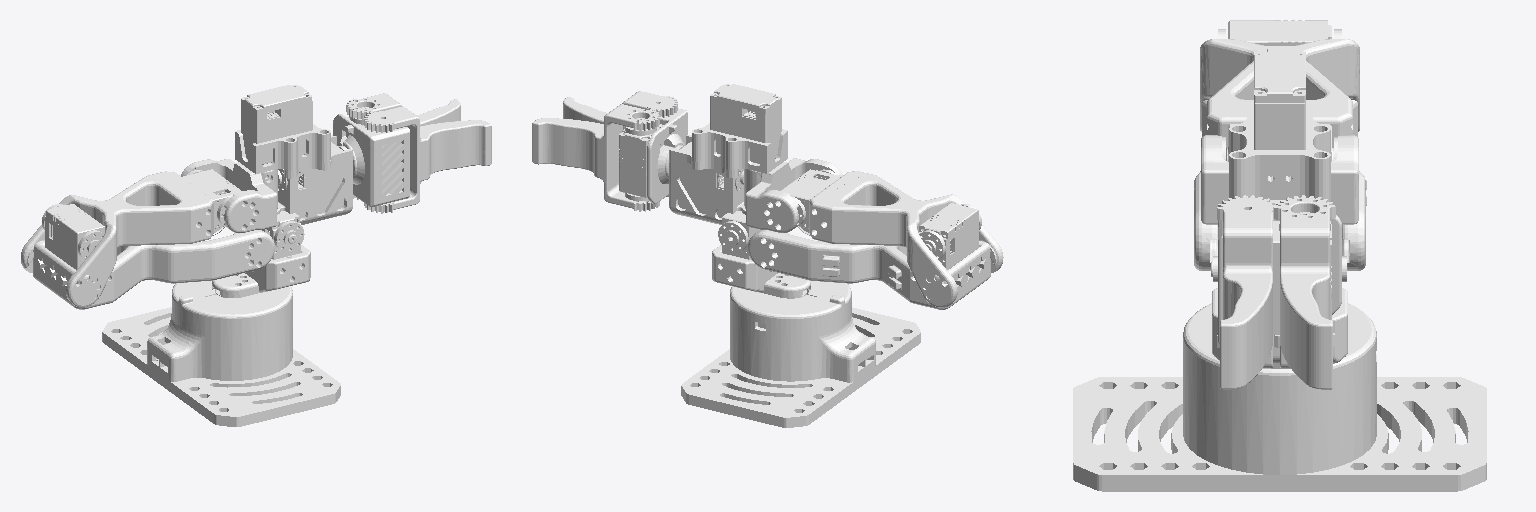
The robot description file, URDF, robot "stararm102_description":
<?xml version="1.0" encoding="utf-8"?>
<!-- This URDF was automatically created by SolidWorks to URDF Exporter! Originally created by Stephen Brawner (brawner@gmail.com) 
     Commit Version: 1.6.0-4-g7f85cfe  Build Version: 1.6.7995.38578
     For more information, please see http://wiki.ros.org/sw_urdf_exporter -->
<robot
  name="stararm102_description">
      <!-- 添加虚拟根链接 -->
  <link name="world"/>

  <!-- 添加固定关节 -->
  <joint name="world_to_base" type="fixed">
    <parent link="world"/>
    <child link="base_link"/>
    <origin xyz="0 0 0" rpy="0 0 0"/>
  </joint>
  <link
    name="base_link">
    <inertial>
      <origin
        xyz="-0.00507886641574018 -3.42055196168034E-05 0.0170541570471663"
        rpy="0 0 0" />
      <mass
        value="0.155441639095221" />
      <inertia
        ixx="0.000211774147683076"
        ixy="-1.12835975463621E-08"
        ixz="-1.66282304179735E-06"
        iyy="0.000108041554696676"
        iyz="3.2421968022911E-08"
        izz="0.000295757258206271" />
    </inertial>
    <visual>
      <origin
        xyz="0 0 0"
        rpy="0 0 0" />
      <geometry>
        <mesh
          filename="package://stararm102_description/meshes/base_link.STL" />
      </geometry>
      <material
        name="">
        <color
          rgba="1 1 1 1" />
      </material>
    </visual>
    <collision>
      <origin
        xyz="0 0 0"
        rpy="0 0 0" />
      <geometry>
        <mesh
          filename="package://stararm102_description/meshes/base_link.STL" />
      </geometry>
    </collision>
  </link>
  <link
    name="link1">
    <inertial>
      <origin
        xyz="-0.000860795817551681 3.48041004087085E-05 0.0388877617080775"
        rpy="0 0 0" />
      <mass
        value="0.0365919096309897" />
      <inertia
        ixx="1.06390422111377E-05"
        ixy="1.47026736408431E-13"
        ixz="3.78567348260604E-07"
        iyy="6.84495444026531E-06"
        iyz="-3.37080406447148E-09"
        izz="1.2039407998213E-05" />
    </inertial>
    <visual>
      <origin
        xyz="0 0 0"
        rpy="0 0 0" />
      <geometry>
        <mesh
          filename="package://stararm102_description/meshes/link1.STL" />
      </geometry>
      <material
        name="">
        <color
          rgba="1 1 1 1" />
      </material>
    </visual>
    <collision>
      <origin
        xyz="0 0 0"
        rpy="0 0 0" />
      <geometry>
        <mesh
          filename="package://stararm102_description/meshes/link1.STL" />
      </geometry>
    </collision>
  </link>
  <joint
    name="joint1"
    type="revolute">
    <origin
      xyz="0 0 0.0283500000000012"
      rpy="0 0 0" />
    <parent
      link="base_link" />
    <child
      link="link1" />
    <axis
      xyz="0 0 -1" />
    <limit
      lower="-2.27"
      upper="2.27"
      effort="100"
      velocity="1" />
  </joint>
  <link
    name="link2">
    <inertial>
      <origin
        xyz="0.065445114144764 4.80766137382835E-05 1.86081119329107E-05"
        rpy="0 0 0" />
      <mass
        value="0.0677741447743621" />
      <inertia
        ixx="2.49505701233235E-05"
        ixy="-1.4323495575068E-06"
        ixz="-2.88763068172859E-09"
        iyy="7.27062347454161E-05"
        iyz="5.01460295474944E-11"
        izz="5.48857485408553E-05" />
    </inertial>
    <visual>
      <origin
        xyz="0 0 0"
        rpy="0 0 0" />
      <geometry>
        <mesh
          filename="package://stararm102_description/meshes/link2.STL" />
      </geometry>
      <material
        name="">
        <color
          rgba="1 1 1 1" />
      </material>
    </visual>
    <collision>
      <origin
        xyz="0 0 0"
        rpy="0 0 0" />
      <geometry>
        <mesh
          filename="package://stararm102_description/meshes/link2.STL" />
      </geometry>
    </collision>
  </link>
  <joint
    name="joint2"
    type="revolute">
    <origin
      xyz="0.000100000000001007 0 0.0620250000000017"
      rpy="-1.5707963267949 0 3.14159265358979" />
    <parent
      link="link1" />
    <child
      link="link2" />
    <axis
      xyz="0 0 -1" />
    <limit
      lower="0"
      upper="3.14"
      effort="100"
      velocity="1" />
  </joint>
  <link
    name="link3">
    <inertial>
      <origin
        xyz="0.0139670047463857 -0.0548362979855048 -0.0260232297832349"
        rpy="0 0 0" />
      <mass
        value="0.062483417986533" />
      <inertia
        ixx="6.07869930598935E-05"
        ixy="6.07457290650578E-06"
        ixz="1.72220333532639E-10"
        iyy="2.4119750081723E-05"
        iyz="-1.05927086495088E-08"
        izz="4.79411867478519E-05" />
    </inertial>
    <visual>
      <origin
        xyz="0 0 0"
        rpy="0 0 0" />
      <geometry>
        <mesh
          filename="package://stararm102_description/meshes/link3.STL" />
      </geometry>
      <material
        name="">
        <color
          rgba="1 1 1 1" />
      </material>
    </visual>
    <collision>
      <origin
        xyz="0 0 0"
        rpy="0 0 0" />
      <geometry>
        <mesh
          filename="package://stararm102_description/meshes/link3.STL" />
      </geometry>
    </collision>
  </link>
  <joint
    name="joint3"
    type="revolute">
    <origin
      xyz="0.120565306190578 -0.0100999999999999 0.0259999999999978"
      rpy="0 0 -1.5707963267949" />
    <parent
      link="link2" />
    <child
      link="link3" />
    <axis
      xyz="0 0 -1" />
   <limit
      lower="-3.14"
      upper="0"
      effort="100"
      velocity="1" />
  </joint>
  <link
    name="link4">
    <inertial>
      <origin
        xyz="0.0233852853653051 -0.00064950134956597 -4.72632631462466E-06"
        rpy="0 0 0" />
      <mass
        value="0.0290020616470162" />
       <inertia
        ixx="1.1313445878846E-05"
        ixy="2.04495765263871E-08"
        ixz="3.96927019964726E-09"
        iyy="1.29471641752426E-05"
        iyz="1.58418299959233E-09"
        izz="5.57726165351631E-06" />
    </inertial>
    <visual>
      <origin
        xyz="0 0 0"
        rpy="0 0 0" />
      <geometry>
        <mesh
          filename="package://stararm102_description/meshes/link4.STL" />
      </geometry>
      <material
        name="">
        <color
          rgba="1 1 1 1" />
      </material>
    </visual>
    <collision>
      <origin
        xyz="0 0 0"
        rpy="0 0 0" />
      <geometry>
        <mesh
          filename="package://stararm102_description/meshes/link4.STL" />
      </geometry>
    </collision>
  </link>
  <joint
    name="joint4"
    type="revolute">
    <origin
      xyz="0.0162194771204603 -0.107604056191361 -0.0259999999999976"
      rpy="0 0 -1.5707963267949" />
    <parent
      link="link3" />
    <child
      link="link4" />
    <axis
      xyz="0 0 -1" />
    <limit
      lower="-1.57"
      upper="2.2"
      effort="100"
      velocity="1" />
  </joint>
  <link
    name="link5">
    <inertial>
      <origin
        xyz="0.0239721333681056 1.60405714164091E-06 0.0123439857182104"
        rpy="0 0 0" />
      <mass
        value="0.04381347428302" />
      <inertia
        ixx="8.71603004200794E-06"
        ixy="6.14891079200239E-10"
        ixz="2.11746739586546E-07"
        iyy="1.364277032058E-05"
        iyz="1.11466543450896E-10"
        izz="1.22790054604825E-05" />
    </inertial>
    <visual>
      <origin
        xyz="0 0 0"
        rpy="0 0 0" />
      <geometry>
        <mesh
          filename="package://stararm102_description/meshes/link5.STL" />
      </geometry>
      <material
        name="">
        <color
          rgba="1 1 1 1" />
      </material>
    </visual>
    <collision>
      <origin
        xyz="0 0 0"
        rpy="0 0 0" />
      <geometry>
        <mesh
          filename="package://stararm102_description/meshes/link5.STL" />
      </geometry>
    </collision>
  </link>
  <joint
    name="joint5"
    type="revolute">
    <origin
      xyz="0.0350000000000005 -0.0013799999999997 0"
      rpy="-1.57079632679489 0 0" />
    <parent
      link="link4" />
    <child
      link="link5" />
    <axis
      xyz="0 0 -1" />
    <limit
      lower="-1.2"
      upper="1.2"
      effort="100"
      velocity="1" />
  </joint>
  <link
    name="link6">
    <inertial>
      <origin
        xyz="0.00415459393144704 6.90476927523165E-05 -0.0776167187492962"
        rpy="0 0 0" />
      <mass
        value="0.0277279215984807" />
      <inertia
        ixx="6.06312512308252E-06"
        ixy="3.91296868794582E-08"
        ixz="-1.01016013762684E-06"
        iyy="6.31326639496487E-06"
        iyz="9.82075534976282E-09"
        izz="7.98591452298848E-06" />
    </inertial>
    <visual>
      <origin
        xyz="0 0 0"
        rpy="0 0 0" />
      <geometry>
        <mesh
          filename="package://stararm102_description/meshes/link6.STL" />
      </geometry>
      <material
        name="">
        <color
          rgba="1 1 1 1" />
      </material>
    </visual>
    <collision>
      <origin
        xyz="0 0 0"
        rpy="0 0 0" />
      <geometry>
        <mesh
          filename="package://stararm102_description/meshes/link6.STL" />
      </geometry>
    </collision>
  </link>
  <joint
    name="joint6"
    type="revolute">
    <origin
      xyz="0.15168 0 0.005225"
      rpy="-1.5708 0 -1.5708" />
    <parent
      link="link5" />
    <child
      link="link6" />
    <axis
      xyz="0 0 -1" />
    <limit
      lower="-3.14"
      upper="3.14"
      effort="100"
      velocity="1" />
  </joint>
  <link
    name="link7_left">
    <inertial>
      <origin
        xyz="0.0281158042585857 0.00012184612342972 0.000226777556244492"
        rpy="0 0 0" />
      <mass
        value="0.0209012827567763" />
      <inertia
        ixx="6.35411360036268E-06"
        ixy="-2.90503922182143E-07"
        ixz="6.32393072078588E-08"
        iyy="1.42917487489547E-05"
        iyz="1.63150501633264E-10"
        izz="9.06820649030484E-06" />
    </inertial>
    <visual>
      <origin
        xyz="0 0 0"
        rpy="0 0 0" />
      <geometry>
        <mesh
          filename="package://stararm102_description/meshes/link7_left.STL" />
      </geometry>
      <material
        name="">
        <color
          rgba="1 1 1 1" />
      </material>
    </visual>
    <collision>
      <origin
        xyz="0 0 0"
        rpy="0 0 0" />
      <geometry>
        <mesh
          filename="package://stararm102_description/meshes/link7_left.STL" />
      </geometry>
    </collision>
  </link>
  <joint
    name="joint7_left"
    type="revolute">
    <origin
      xyz="0.012325 0 -0.07313"
      rpy="1.5708 -1.5708 0" />
    <parent
      link="link6" />
    <child
      link="link7_left" />
    <axis
      xyz="0 0 -1" />
    <limit
      lower="0"
      upper="1.57"
      effort="5"
      velocity="3.14" />
  </joint>
  <link
    name="link7_right">
    <inertial>
      <origin
        xyz="0.029631 -9.0637E-05 -0.0004"
        rpy="0 0 0" />
      <mass
        value="0.019895" />
      <inertia
        ixx="5.549E-06"
        ixy="3.0636E-07"
        ixz="1.641E-12"
        iyy="1.2591E-05"
        iyz="-4.8393E-13"
        izz="8.1517E-06" />
    </inertial>
    <visual>
      <origin
        xyz="0 0 0"
        rpy="0 0 0" />
      <geometry>
        <mesh
          filename="package://stararm102_description/meshes/link7_right.STL" />
      </geometry>
      <material
        name="">
        <color
          rgba="1 1 1 1" />
      </material>
    </visual>
    <collision>
      <origin
        xyz="0 0 0"
        rpy="0 0 0" />
      <geometry>
        <mesh
          filename="package://stararm102_description/meshes/link7_right.STL" />
      </geometry>
    </collision>
  </link>
  <joint
    name="joint7_right"
    type="revolute">
   <origin
      xyz="-0.009675 0 -0.07313"
      rpy="1.5708 -1.5708 0" />
    <parent
      link="link6" />
    <child
      link="link7_right" />
    <axis
      xyz="0 0 -1" />
    <limit
      lower="-1.57"
      upper="0"
      effort="5"
      velocity="3.14" />
    <mimic joint="joint7_left" multiplier="-1" />
  </joint>
</robot>

--- Render facts (derived) ---
The picture shows the robot from 3 angles, left to right: view 1: azimuth 30°, elevation 25°; view 2: azimuth 150°, elevation 25°; view 3: azimuth 270°, elevation 25°; orthographic projection.
Model stararm102_description with 10 links and 9 joints (8 revolute, 1 fixed), rooted at world, posed all joints at 0.
Links seen in each view (by area): view 1: base_link, link3, link2, link5, link7_left, link6, link1, link4, link7_right; view 2: base_link, link2, link3, link5, link7_right, link6, link1, link4, link7_left; view 3: base_link, link5, link3, link7_right, link7_left, link2, link4, link6, link1.
Boxes of the visible links, x1=… form: base_link: x1=102, y1=281, x2=340, y2=426; link3: x1=21, y1=169, x2=241, y2=307; link2: x1=33, y1=204, x2=274, y2=309; link5: x1=235, y1=85, x2=352, y2=224; link7_left: x1=364, y1=106, x2=491, y2=213; link6: x1=333, y1=107, x2=409, y2=206; link1: x1=212, y1=211, x2=310, y2=297; link4: x1=181, y1=159, x2=277, y2=232; link7_right: x1=346, y1=93, x2=460, y2=199; base_link: x1=681, y1=281, x2=920, y2=427; link2: x1=748, y1=203, x2=990, y2=309; link3: x1=781, y1=169, x2=1003, y2=307; link5: x1=669, y1=84, x2=787, y2=224; link7_right: x1=532, y1=104, x2=659, y2=211; link6: x1=619, y1=108, x2=687, y2=203; link1: x1=712, y1=211, x2=810, y2=298; link4: x1=744, y1=158, x2=842, y2=232; link7_left: x1=563, y1=91, x2=677, y2=196; base_link: x1=1073, y1=303, x2=1486, y2=491; link5: x1=1229, y1=49, x2=1330, y2=203; link3: x1=1200, y1=39, x2=1359, y2=161; link7_right: x1=1274, y1=195, x2=1335, y2=389; link7_left: x1=1217, y1=195, x2=1277, y2=389; link2: x1=1194, y1=20, x2=1366, y2=270; link4: x1=1201, y1=135, x2=1358, y2=224; link6: x1=1218, y1=204, x2=1341, y2=343; link1: x1=1211, y1=256, x2=1347, y2=368.
Size in the robot's own frame: 0.3058 by 0.16 by 0.1789 metres.
Meshes: 9 distinct files referenced, 9 mesh visuals loaded (9 binary STL).
